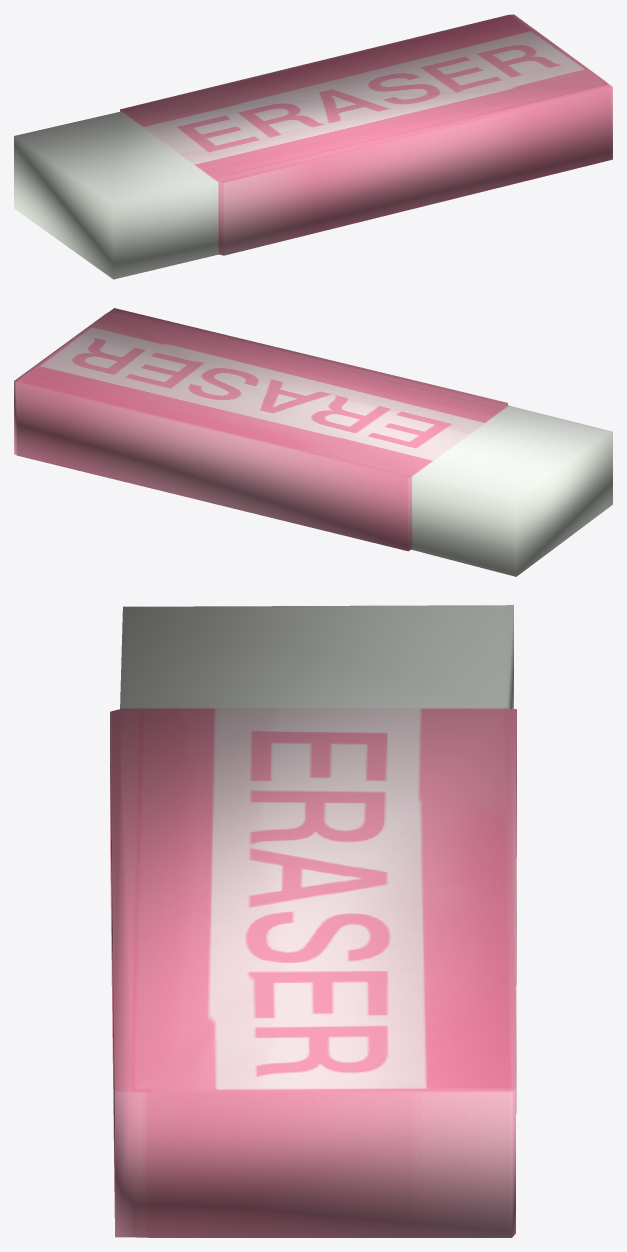
The model's file is eraser.glb.
3 views of the same model, one above another, from view 1: azimuth 30°, elevation 25°; view 2: azimuth 150°, elevation 25°; view 3: azimuth 270°, elevation 25° (orthographic). The views are drawn at different scales.
Visible parts, largest first — view 1: Plane; view 2: Plane; view 3: Plane.
Boxes of the visible parts, bbox=[...] form: Plane: bbox=[14, 14, 612, 279]; Plane: bbox=[14, 308, 612, 576]; Plane: bbox=[110, 605, 516, 1237].
Size of the model in its own units: 1.24 by 0.1723 by 0.438.
Materials: 1 (1 with a texture image).
